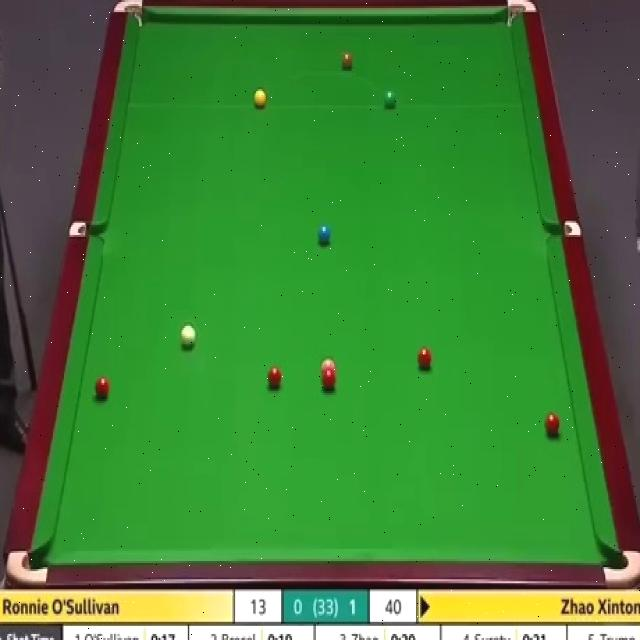blue-ball: (317, 223, 332, 245)
brown-ball: (341, 52, 353, 72)
green-ball: (382, 89, 396, 109)
pink-ball: (321, 358, 336, 373)
red-ball: (94, 374, 110, 401), (544, 414, 562, 437), (320, 370, 337, 391), (417, 347, 431, 371), (267, 367, 282, 389)
white-ball: (180, 325, 198, 350)
yellow-ball: (256, 91, 268, 110)
